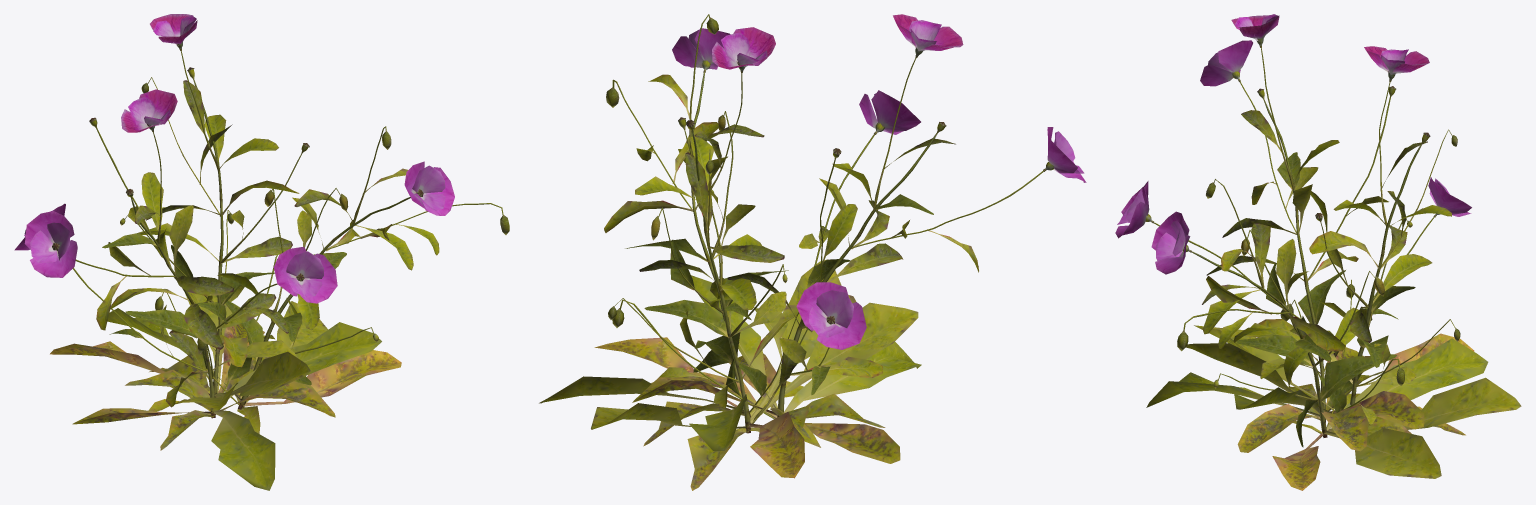
File: Poppy_bush_short_magenta.glb
3 views of the same model, side by side, from view 1: azimuth 30°, elevation 25°; view 2: azimuth 150°, elevation 25°; view 3: azimuth 270°, elevation 25° (orthographic). The views are drawn at different scales.
Parts seen in each view (by area): view 1: bush jr; view 2: bush jr; view 3: bush jr.
Boxes of the visible parts, x1,y1,x2,y2 form: bush jr: (14, 14, 509, 490); bush jr: (539, 14, 1086, 490); bush jr: (1115, 14, 1521, 490).
Size of the model in its own units: 4.09 by 3.29 by 3.16.
1 material, 1 textured.
